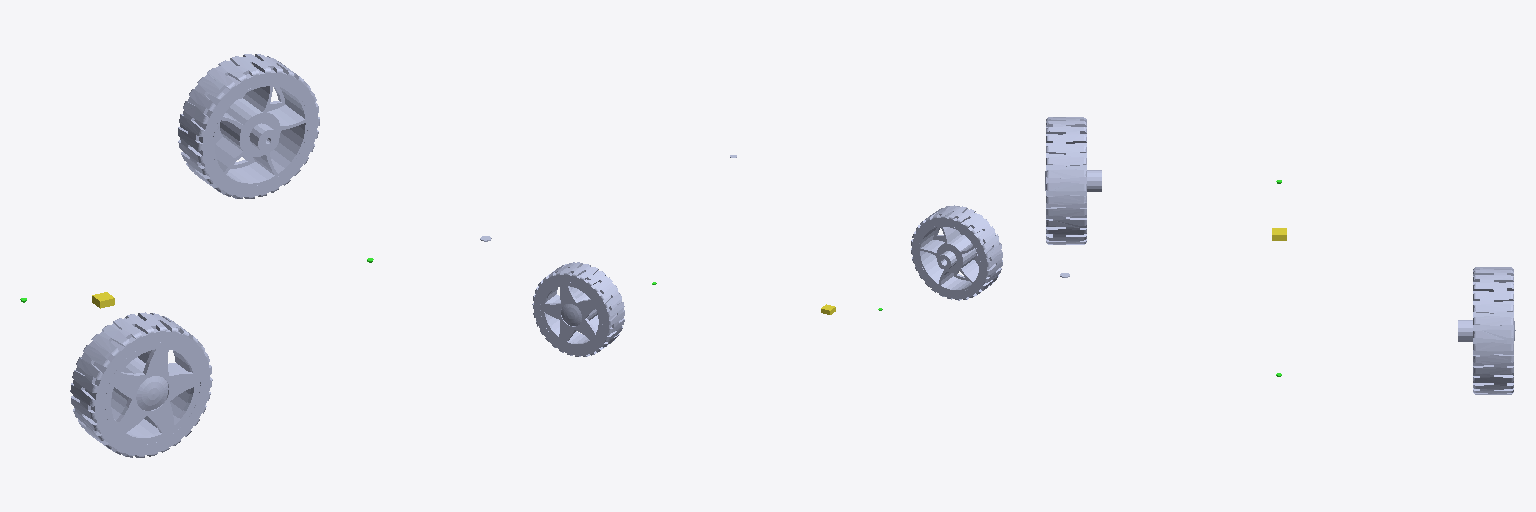
robot.urdf — neor_mini:
<?xml version="1.0" encoding="utf-8"?>
<!-- This URDF was automatically created by SolidWorks to URDF Exporter! Originally created by [author] ([email redacted]) 
     Commit Version: 1.5.1-0-g916b5db  Build Version: 1.5.7152.31018
     For more information, please see http://wiki.ros.org/sw_urdf_exporter -->
<robot name="neor_mini">

  <!-- Add Gazebo plugins -->
    <!-- Load ros_control plugin using the steer_bot_hardware_gazebo
    implementation of the hardware_interface::RobotHW -->

  <gazebo>
    <plugin name="gazebo_ros_control" filename="libgazebo_ros_control.so">
      <robotSimType>steer_bot_hardware_gazebo/SteerBotHardwareGazebo</robotSimType>
      <legacyModeNS>false</legacyModeNS>
    </plugin>
  </gazebo>

    <link name="base_link">
    <!-- avoid root link inertia warnings, annotation -->
    <inertial>
      <origin
        xyz="0.030649671440691 -1.79069899872708E-05 0.0558717976709459"
        rpy="0 0 0" />
      <mass
        value="1.72617713171385" />
      <inertia
        ixx="0.0107311274569357"
        ixy="-3.24164649120244E-08"
        ixz="0.00169188715816868"
        iyy="0.0198871551919603"
        iyz="2.40252669081509E-07"
        izz="0.0269841937242323" />
    </inertial>
    <visual>
      <origin xyz="0 0 0" rpy="0 0 0" />
      <geometry>
        <mesh filename="package://neor_mini/meshes/base_link.STL" />
      </geometry>
      <material name="">
      <color rgba="0.250980392156863 0.250980392156863 0.250980392156863 1" /> 
      </material> 
    </visual>
    <collision>
      <origin
        xyz="0 0 0"
        rpy="0 0 0" />
      <geometry>
        <mesh
          filename="package://neor_mini/meshes/base_link.STL" />
      </geometry>
    </collision>
  </link>
  <link
    name="rear_wheel_link">
    <inertial>
      <origin
        xyz="-8.88178419700125E-16 -2.05391259555654E-14 -0.00112500000001892"
        rpy="0 0 0" />
      <mass
        value="5.65486677646169E-05" />
      <inertia
        ixx="1.32005796313028E-10"
        ixy="-1.938704560671E-27"
        ixz="2.13770572261755E-26"
        iyy="1.32005796313028E-10"
        iyz="-7.60216295195271E-25"
        izz="2.03575203952622E-10" />
    </inertial>
    <visual>
      <origin
        xyz="0 0 0"
        rpy="0 0 0" />
      <geometry>
        <mesh
          filename="package://neor_mini/meshes/rear_wheel_link.STL" />
      </geometry>
      <material
        name="">
        <color
          rgba="0.274509803921569 1 0.247058823529412 1" />
      </material>
    </visual>
    <collision>
      <origin
        xyz="0 0 0"
        rpy="0 0 0" />
      <geometry>
        <mesh
          filename="package://neor_mini/meshes/rear_wheel_link.STL" />
      </geometry>
    </collision>
  </link>
  <joint
    name="rear_wheel_joint"
    type="continuous">
    <origin
      xyz="-0.181499999999597 0 0.0399999999987674"
      rpy="0 0 0" />
    <parent
      link="base_link" />
    <child
      link="rear_wheel_link" />
    <axis
      xyz="0 1 0" />
  </joint>
  <link
    name="left_rear_link">
    <inertial>
      <origin
        xyz="7.85229659072684E-11 -0.0196762547002777 4.85059770127805E-11"
        rpy="0 0 0" />
      <mass
        value="0.29556182905038" />
      <inertia
        ixx="0.000374087423652291"
        ixy="2.19336154342606E-13"
        ixz="-5.50404301757561E-12"
        iyy="0.000661017199375587"
        iyz="-5.10049385981967E-14"
        izz="0.000374087441459994" />
    </inertial>
    <visual>
      <origin
        xyz="0 0 0"
        rpy="0 0 0" />
      <geometry>
        <mesh
          filename="package://neor_mini/meshes/left_rear_link.STL" />
      </geometry>
      <material
        name="">
        <color
          rgba="0.792156862745098 0.819607843137255 0.933333333333333 1" />
      </material>
    </visual>
    <collision>
      <origin
        xyz="0 0 0"
        rpy="0 0 0" />
      <geometry>
        <mesh
          filename="package://neor_mini/meshes/left_rear_link.STL" />
      </geometry>
    </collision>
  </link>
  <joint
    name="left_rear_joint"
    type="continuous">
    <origin
      xyz="-0.181499999999595 0.228542434993694 0.0399999999991634"
      rpy="0 0 0" />
    <parent
      link="base_link" />
    <child
      link="left_rear_link" />
    <axis
      xyz="0 1 0" />
    <limit
      lower="-3.14"
      upper="3.14"
      effort="0"
      velocity="0" />
  </joint>
  <link
    name="right_rear_link">
    <inertial>
      <origin
        xyz="7.8521189550429E-11 0.0196762545376323 3.35983463273237E-11"
        rpy="0 0 0" />
      <mass
        value="0.295561829050389" />
      <inertia
        ixx="0.000374087423652306"
        ixy="-2.1933774523493E-13"
        ixz="5.50404145624456E-12"
        iyy="0.000661017199375601"
        iyz="-5.10073974604221E-14"
        izz="0.000374087441459995" />
    </inertial>
    <visual>
      <origin
        xyz="0 0 0"
        rpy="0 0 0" />
      <geometry>
        <mesh
          filename="package://neor_mini/meshes/right_rear_link.STL" />
      </geometry>
      <material
        name="">
        <color
          rgba="0.792156862745098 0.819607843137255 0.933333333333333 1" />
      </material>
    </visual>
    <collision>
      <origin
        xyz="0 0 0"
        rpy="0 0 0" />
      <geometry>
        <mesh
          filename="package://neor_mini/meshes/right_rear_link.STL" />
      </geometry>
    </collision>
  </link>
  <joint
    name="right_rear_joint"
    type="continuous">
    <origin
      xyz="-0.181499999999595 -0.228542434994426 0.0399999999991584"
      rpy="0 0 0" />
    <parent
      link="base_link" />
    <child
      link="right_rear_link" />
    <axis
      xyz="0 1 0" />
    <limit
      lower="-3.14"
      upper="3.14"
      effort="0"
      velocity="0" />
  </joint>
  <link
    name="front_steer_link">
    <inertial>
      <origin
        xyz="-2.1316282072803E-14 3.67778030252452E-11 -0.00112486602459905"
        rpy="0 0 0" />
      <mass
        value="5.65486677646163E-05" />
      <inertia
        ixx="1.32005796313026E-10"
        ixy="1.16322273640277E-26"
        ixz="1.20446157864484E-28"
        iyy="1.32005796313026E-10"
        iyz="-8.66481261175625E-27"
        izz="2.03575203952619E-10" />
    </inertial>
    <visual>
      <origin
        xyz="0 0 0"
        rpy="0 0 0" />
      <geometry>
        <mesh
          filename="package://neor_mini/meshes/front_steer_link.STL" />
      </geometry>
      <material
        name="">
        <color
          rgba="0.274509803921569 1 0.247058823529412 1" />
      </material>
    </visual>
    <collision>
      <origin
        xyz="0 0 0"
        rpy="0 0 0" />
      <geometry>
        <mesh
          filename="package://neor_mini/meshes/front_steer_link.STL" />
      </geometry>
    </collision>
  </link>
  <joint
    name="front_steer_joint"
    type="revolute">
    <origin
      xyz="0.172883370897628 0 -0.00376561854722868"
      rpy="0 0 0" />
    <parent
      link="base_link" />
    <child
      link="front_steer_link" />
    <axis
      xyz="0 0 1" />
    <limit
      lower="-0.72"
      upper="0.72"
      effort="0"
      velocity="0" />
  </joint>

<!-- In order to fit ackermann simulation plugins's request,amend the front steer link and it's joint -->
 <link name="front_steer_right_link">
 <!--  remember add inertial  label,if not,and it can't visual on gazebo-->
 <inertial>  
      <origin xyz="9.44636555644252E-08 -0.000295273745285485 -8.13046296954667E-11" rpy="0 0 0" />
      <mass value="0.296315811300368" /> 
      <inertia
        ixx="0.000374692013709393"
        ixy="-9.17172260383823E-08"
        ixz="-2.43187512356516E-12"
        iyy="0.000661029987747155"
        iyz="1.9736939507106E-13"
        izz="0.000374691963930348" />
    </inertial>
   <visual>
     <geometry>
       <cylinder length="0.001" radius="0.005"/>
     </geometry>
     <origin rpy="0 0 0"  xyz="0 0 0" />
     <material name=""> 
          <color rgba="0.792156862745098 0.819607843137255 0.933333333333333 1" />
     </material>
   </visual>
   <collision>
      <origin
        xyz="0 0 0"
        rpy="0 0 0" />
      <geometry>
       <cylinder length="0.001" radius="0.005"/>
      </geometry>
    </collision>
 </link>
 <joint name="front_steer_right_joint" type="revolute">
    <origin rpy="0 0 0"  xyz="0.17 -0.21 0.102" />
    <parent link="base_link" />
    <child link="front_steer_right_link" />
    <axis xyz="0 0 1" />     <!-- charge steer direction default is 0 0 1-->
    <limit lower="-0.69" upper="0.69" effort="0" velocity="0" />
 </joint>
<!-- ************************************************************************************* -->

  <link
    name="front_right_wheel_link">
    <inertial>
      <origin
        xyz="9.44636555644252E-08 -0.000295273745285485 -8.13046296954667E-11"
        rpy="0 0 0" />
      <mass
        value="0.296315811300368" />
      <inertia
        ixx="0.000374692013709393"
        ixy="-9.17172260383823E-08"
        ixz="-2.43187512356516E-12"
        iyy="0.000661029987747155"
        iyz="1.9736939507106E-13"
        izz="0.000374691963930348" />
    </inertial>
    <visual>
      <origin
        xyz="0 0 0"
        rpy="0 0 0" />
      <geometry>
        <mesh
          filename="package://neor_mini/meshes/front_right_wheel_link.STL" />
      </geometry>
      <material
        name="">
        <color
          rgba="0.792156862745098 0.819607843137255 0.933333333333333 1" />
      </material>
    </visual>
    <collision>
      <origin
        xyz="0 0 0"
        rpy="0 0 0" />
      <geometry>
        <mesh
          filename="package://neor_mini/meshes/front_right_wheel_link.STL" />
      </geometry>
    </collision>
  </link>
  <joint name="front_right_wheel_joint" type="continuous">
    <origin xyz="0 0 -0.06" rpy="0 0 0" />   <!-- amend the position between steer_right_link and front right wheel-->
    <parent link="front_steer_right_link" />
    <child  link="front_right_wheel_link" />
    <axis xyz="0 1 0" />
  </joint>

<!-- In order to fit ackermann simulation plugins's request,amend the front steer link and it's joint -->
 <link name="front_steer_left_link">
 <!--  remember add inertial  label,if not,and it can't visual on gazebo-->
    <inertial> 
      <origin xyz="9.44636555644252E-08 -0.000295273745285485 -8.13046296954667E-11" rpy="0 0 0" />
      <mass value="0.296315811300368" /> 
      <inertia
        ixx="0.000374692013709393"
        ixy="-9.17172260383823E-08"
        ixz="-2.43187512356516E-12"
        iyy="0.000661029987747155"
        iyz="1.9736939507106E-13"
        izz="0.000374691963930348" />
    </inertial>
   <visual>
     <geometry>
       <cylinder length="0.001" radius="0.005"/>
     </geometry>
     <origin rpy="0 0 0"  xyz="0 0 0" />
   </visual>
    <collision>
      <origin xyz="0 0 0" rpy="0 0 0" />
      <geometry>
       <cylinder length="0.001" radius="0.005"/>
      </geometry>
    </collision>
 </link>
 <joint name="front_steer_left_joint" type="revolute">
    <origin rpy="0 0 0"  xyz="0.17 0.21 0.102" />
    <parent link="base_link" />
    <child link="front_steer_left_link" />
    <axis xyz="0 0 1" />  <!-- charge steer direction default is 0 0 1-->
    <limit lower="-0.69" upper="0.69" effort="0" velocity="0" />
 </joint>
<!-- ************************************************************************************* -->

  <link
    name="front_left_wheel_link">
    <inertial>
      <origin
        xyz="-3.99413835339146E-11 0.000295273997845347 1.08602016268833E-10"
        rpy="0 0 0" />
      <mass
        value="0.296315811293944" />
      <inertia
        ixx="0.00037469197851121"
        ixy="-1.84493877596723E-13"
        ixz="-9.50756757097929E-12"
        iyy="0.00066103001709398"
        iyz="-1.17866882205563E-13"
        izz="0.000374691969713977" />
    </inertial>
    <visual>
      <origin
        xyz="0 0 0"
        rpy="0 0 0" />
      <geometry>
        <mesh
          filename="package://neor_mini/meshes/front_left_wheel_link.STL" />
      </geometry>
      <material
        name="">
        <color
          rgba="0.792156862745098 0.819607843137255 0.933333333333333 1" />
      </material>
    </visual>
    <collision>
      <origin
        xyz="0 0 0"
        rpy="0 0 0" />
      <geometry>
        <mesh
          filename="package://neor_mini/meshes/front_left_wheel_link.STL" />
      </geometry>
    </collision>
  </link>
  <joint name="front_left_wheel_joint" type="continuous">
    <origin xyz="0 0 -0.06" rpy="0 0 0" />      <!-- amend the position between steer_left_link and front left wheel-->
    <parent link="front_steer_left_link" />
    <child link="front_left_wheel_link" />
    <axis xyz="0 1 0" /> 
  </joint>


<!--******************* add VLP laser Link *************************************-->
  <joint name="VLP16_base_mount_joint" type="fixed">
    <origin xyz="0 0.0 0.115" rpy="0.0 0.0 0.0"/>
    <parent link="base_link"/>
    <child link="VLP16_base_link"/>
  </joint>

  <link name="VLP16_base_link">
    <visual>
      <geometry>
        <mesh filename="package://velodyne_description/meshes/VLP16_base_1.dae" />
      </geometry>
    </visual>
    <visual>
      <geometry>
        <mesh filename="package://velodyne_description/meshes/VLP16_base_2.dae" />
      </geometry>
    </visual>
    <collision>
      <origin rpy="0 0 0" xyz="0 0 0.03585"/>
      <geometry>
        <cylinder radius="0.0516" length="0.0717"/>
      </geometry>
    </collision>
  </link>

  <joint name="VLP16_base_scan_joint" type="fixed" >
    <origin xyz="0 0 0.0377" rpy="0 0 0" />
    <parent link="VLP16_base_link" />
    <child link="velodyne"/>
  </joint>

  <link name="velodyne">
    <inertial>
      <mass value="0.01"/>
      <origin xyz="0 0 0"/>
      <inertia ixx="1e-7" ixy="0" ixz="0" iyy="1e-7" iyz="0" izz="1e-7"/>
    </inertial>
    <visual>
      <origin xyz="0 0 -0.0377" />
      <geometry>
        <mesh filename="package://velodyne_description/meshes/VLP16_scan.dae" />
      </geometry>
    </visual>
  </link>
 
  <!--*********************************************************************-->

  <!--  add imu llink   -->
  <link name="imu_link">
    <visual>
      <geometry>
        <box size="0.015 0.015 0.007"/>
      </geometry>
    </visual>
  </link>
  <joint name ="imu_joints" type="fixed">
    <origin xyz="-0.10 0.0 0.02" rpy="0.0 0.0 0.0"/>
    <parent link="base_link"/>
    <child link="imu_link"/>
  </joint>
  <!--*********************************************************************-->


  <!--add color for links -->
  <gazebo reference="base_link">
    <material>Gazebo/DarkGrey </material>
  </gazebo>

  <gazebo reference="front_steer_left_link">
    <material>Gazebo/Road</material>
  </gazebo>

  <gazebo reference="front_steer_right_link">
    <material>Gazebo/Road</material>
  </gazebo>

  <gazebo reference="front_left_wheel_link">
    <material>Gazebo/Road</material>
  </gazebo>

  <gazebo reference="front_right_wheel_link">
    <material>Gazebo/Road</material>
  </gazebo>
  
  <gazebo reference="left_rear_link">
    <material>Gazebo/Road</material>
  </gazebo>

  <gazebo reference="right_rear_link">
    <material>Gazebo/Road</material>
  </gazebo>

  <!--*********************************************************************-->

  <!-- add laser simulation plugines adaptored for rplidar A1M8 -->
  <gazebo reference="velodyne">
    <sensor type="ray" name="velodyne-VLP16">      <!-- ray   -->   <!-- gpu_ray -->
      <pose>0 0 0 0 0 0</pose>
      <visualize>false</visualize>
      <update_rate>10</update_rate>
      <ray>
        <scan>
          <horizontal>
            <samples>1875</samples>
            <resolution>1</resolution>
            <min_angle>0.9</min_angle>
            <max_angle>130</max_angle>
          </horizontal>
          <vertical>
            <samples>16</samples>
            <resolution>1</resolution>
            <min_angle>-0.26</min_angle>   <!-- 15 -->
            <max_angle> 0.26</max_angle>
          </vertical>
        </scan>
        <range>
          <min>0.9</min>
          <max>131</max>
          <resolution>0.001</resolution>
        </range>
        <noise>
          <type>gaussian</type>
          <mean>0.0</mean>
          <stddev>0.0</stddev>
        </noise>
      </ray>
      <plugin name="gazebo_ros_laser_controller" filename="libgazebo_ros_velodyne_laser.so">     <!-- libgazebo_ros_velodyne_gpu_laser  --> <!-- libgazebo_ros_velodyne_laser  -->
        <topicName>/velodyne_points</topicName>
        <frameName>velodyne</frameName>
        <organize_cloud>false</organize_cloud>
        <min_range>0.9</min_range>
        <max_range>130</max_range>
        <gaussianNoise>0.008</gaussianNoise>
      </plugin>
    </sensor>
  </gazebo>
  <!--*********************************************************************-->

  <!-- add imu link simlations plugines  -->
  <gazebo reference="imu_link">
    <gravity>true</gravity>
    <sensor name="imu_sensor" type="imu">
      <always_on>true</always_on>
      <update_rate>100</update_rate>
      <visualize>false</visualize>
      <topic>/imu/data</topic>
      <plugin filename="libgazebo_ros_imu_sensor.so" name="imu_plugin">
        <topicName>/imu/data</topicName>
        <bodyName>imu_link</bodyName>
        <updateRateHZ>10.0</updateRateHZ>
        <gaussianNoise>0.0</gaussianNoise>
        <xyzOffset>0 0 0</xyzOffset>
        <rpyOffset>0 0 0</rpyOffset>
        <frameName>imu_link</frameName>
        <initialOrientationAsReference>false</initialOrientationAsReference>
      </plugin>
      <pose>0 0 0 0 0 0</pose>
    </sensor>
  </gazebo>
  <!--*********************************************************************-->

</robot>

--- Render facts (derived) ---
3 views of the same robot in one strip: view 1: azimuth 30°, elevation 25°; view 2: azimuth 150°, elevation 25°; view 3: azimuth 270°, elevation 25° (orthographic).
Model neor_mini with 12 links and 11 joints (3 revolute, 5 continuous, 3 fixed), rooted at base_link, posed every joint at zero.
Links seen in each view (by area): view 1: right_rear_link, front_left_wheel_link; view 2: front_left_wheel_link, right_rear_link; view 3: front_left_wheel_link, right_rear_link.
Boxes of the visible links, left/top/right/bottom form: right_rear_link: left=70, top=312, right=212, bottom=457; front_left_wheel_link: left=178, top=54, right=319, bottom=198; front_left_wheel_link: left=532, top=262, right=624, bottom=356; right_rear_link: left=911, top=205, right=1002, bottom=300; front_left_wheel_link: left=1458, top=267, right=1515, bottom=394; right_rear_link: left=1045, top=117, right=1101, bottom=244.
Bounding box of the posed robot: 0.4765 × 0.4616 × 0.127 m (x, y, z).
Meshes: 10 distinct files referenced, 4 mesh visuals loaded (4 binary STL); not drawn: 6 (reference not matched to a file when rendering).
